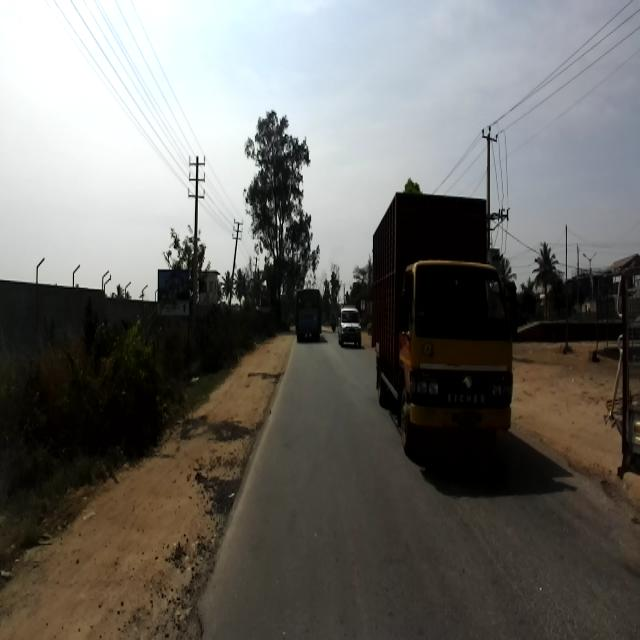electric pole ahead at: (174, 140, 214, 366)
truck ahead at: (365, 186, 516, 454)
